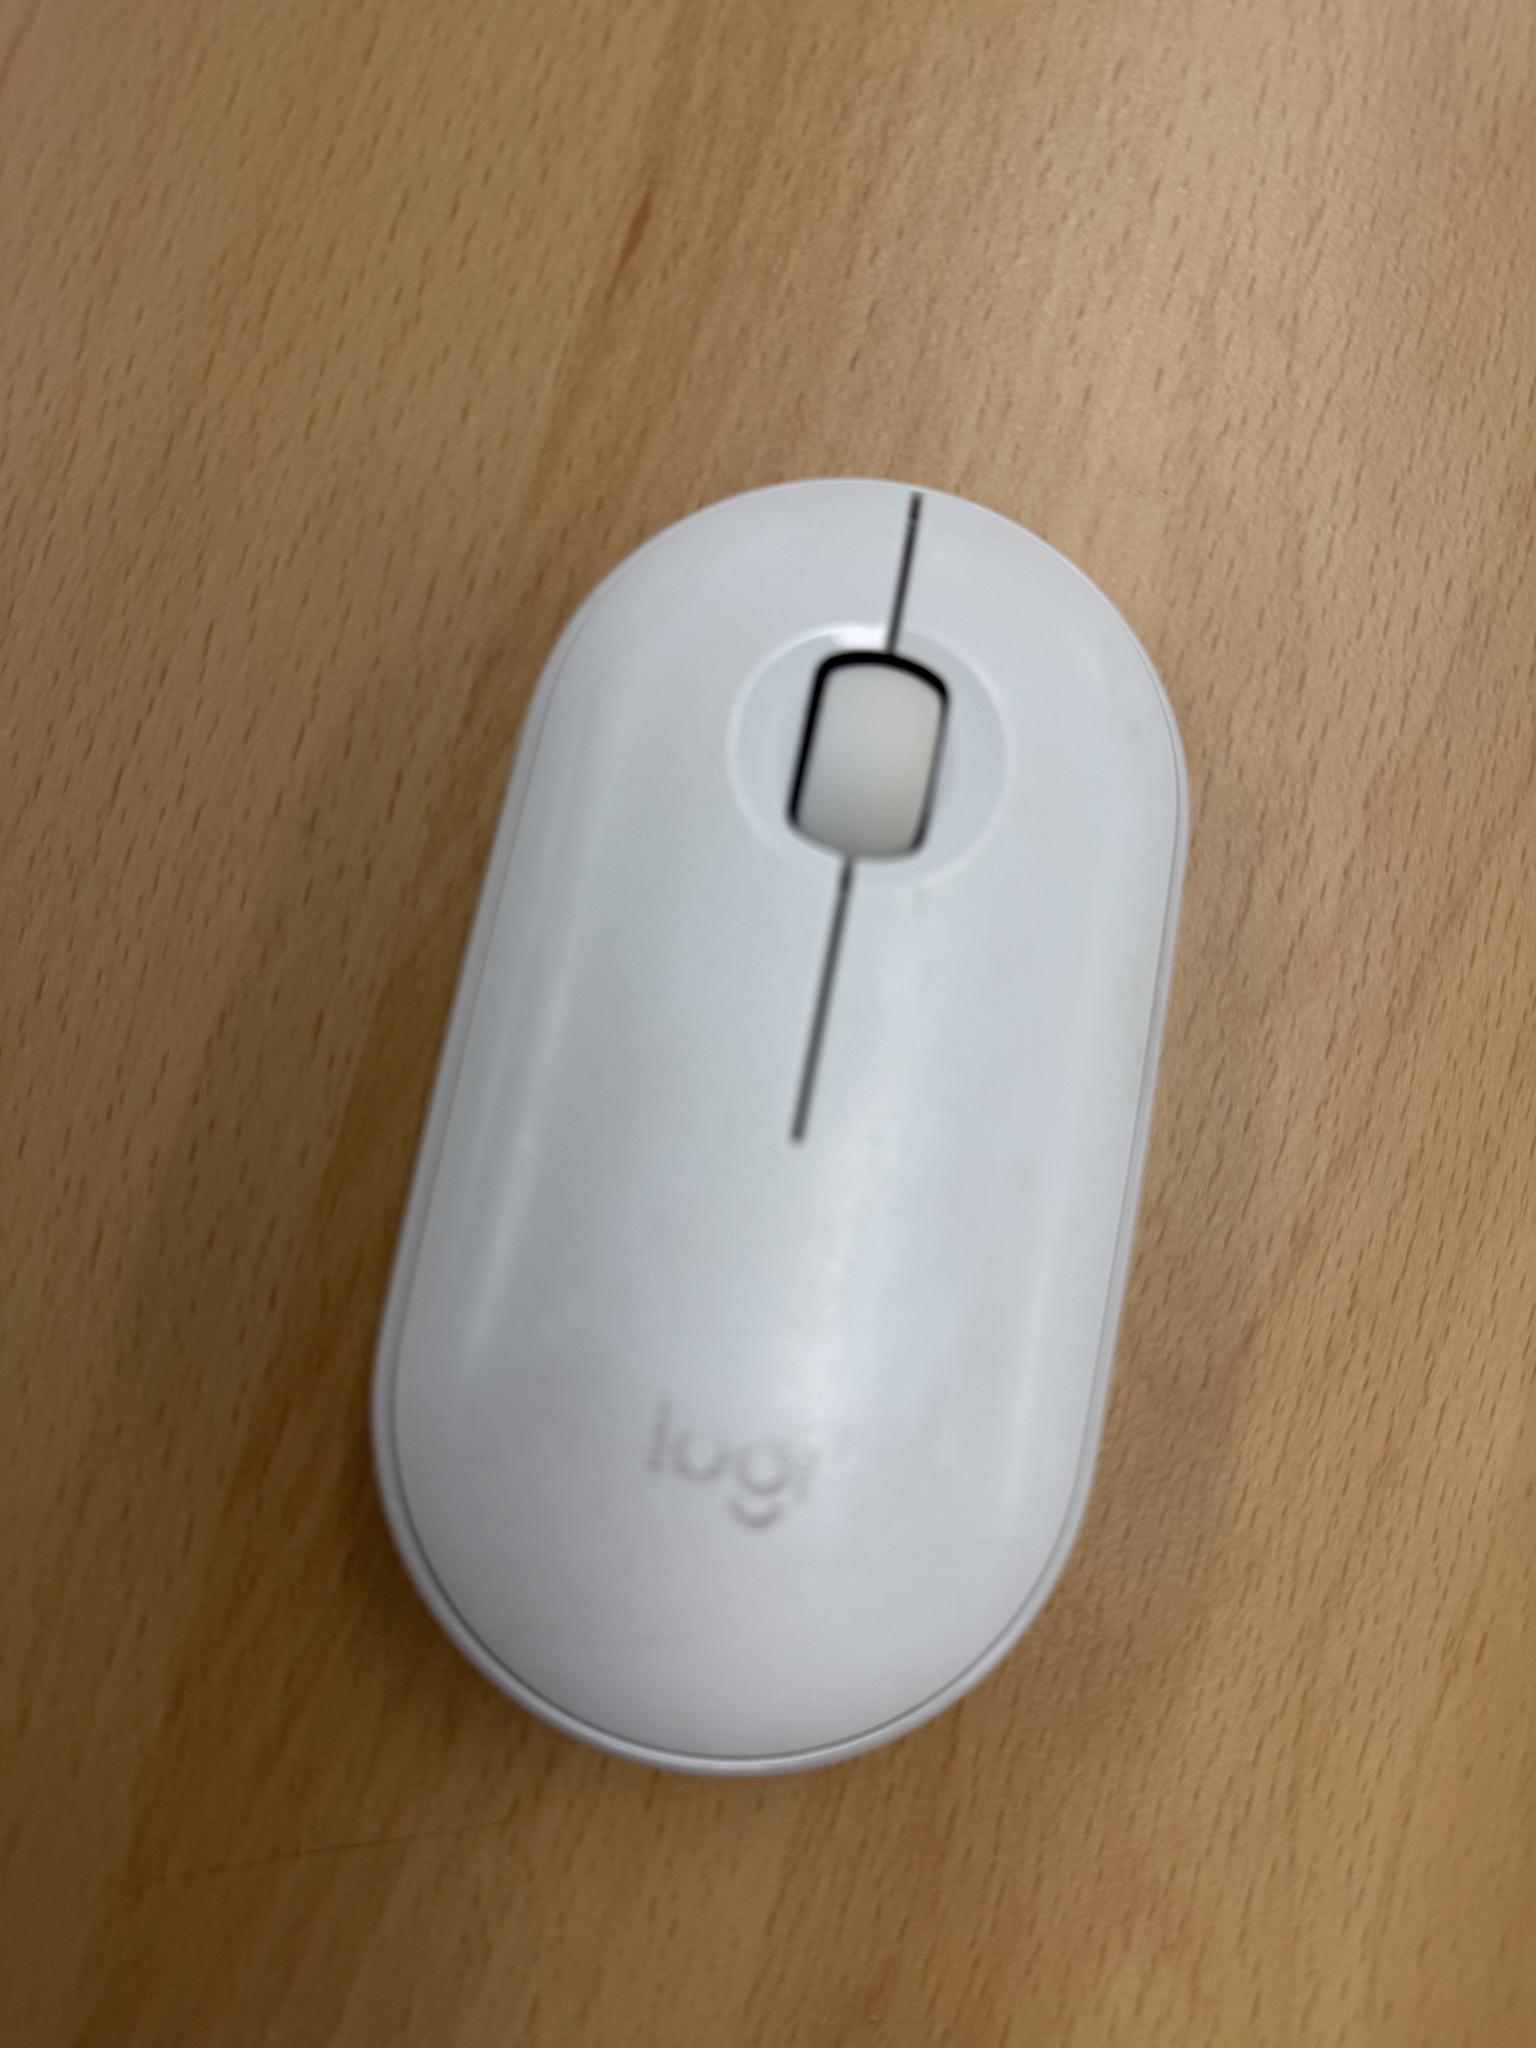front: (361, 463, 1197, 1779)
